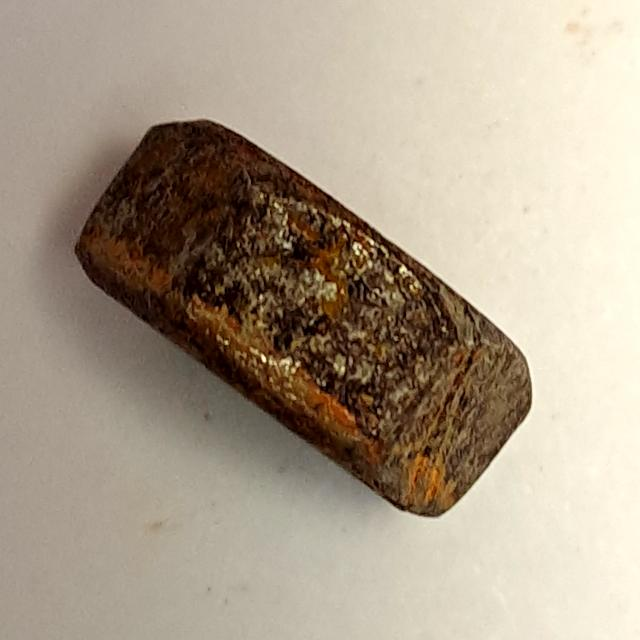Rust: (66, 113, 542, 531)
